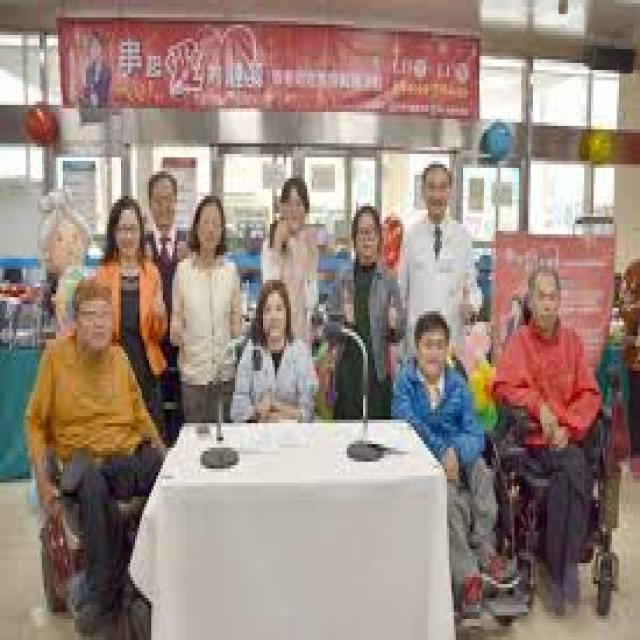wheelchairs: (21, 374, 168, 637), (510, 364, 628, 612)
